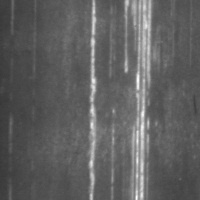scratches: (120, 0, 154, 199), (84, 0, 101, 199)
